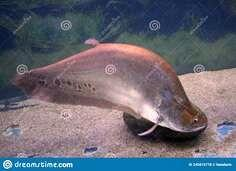Knifefish: (13, 37, 210, 135)
